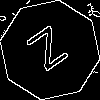Z: (25, 25, 77, 80)
